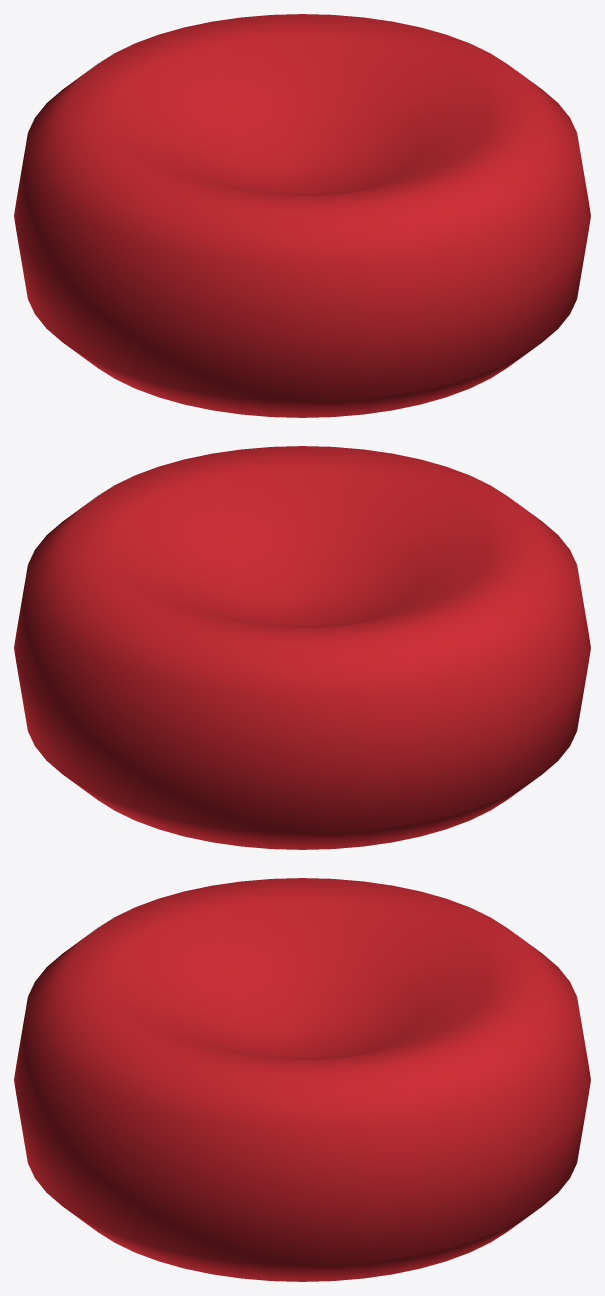
File: erythrocyte.glb
3 views of the same model, one above another, from view 1: azimuth 30°, elevation 25°; view 2: azimuth 150°, elevation 25°; view 3: azimuth 270°, elevation 25° (orthographic).
Visible parts, largest first — view 1: Erythrocyte_Biconcave; view 2: Erythrocyte_Biconcave; view 3: Erythrocyte_Biconcave.
Part boxes in pixels (bbox=[...]): Erythrocyte_Biconcave: bbox=[14, 14, 590, 417]; Erythrocyte_Biconcave: bbox=[14, 446, 590, 849]; Erythrocyte_Biconcave: bbox=[14, 878, 590, 1281].
Bounding box in the file's own units: 2 × 0.78 × 2.
